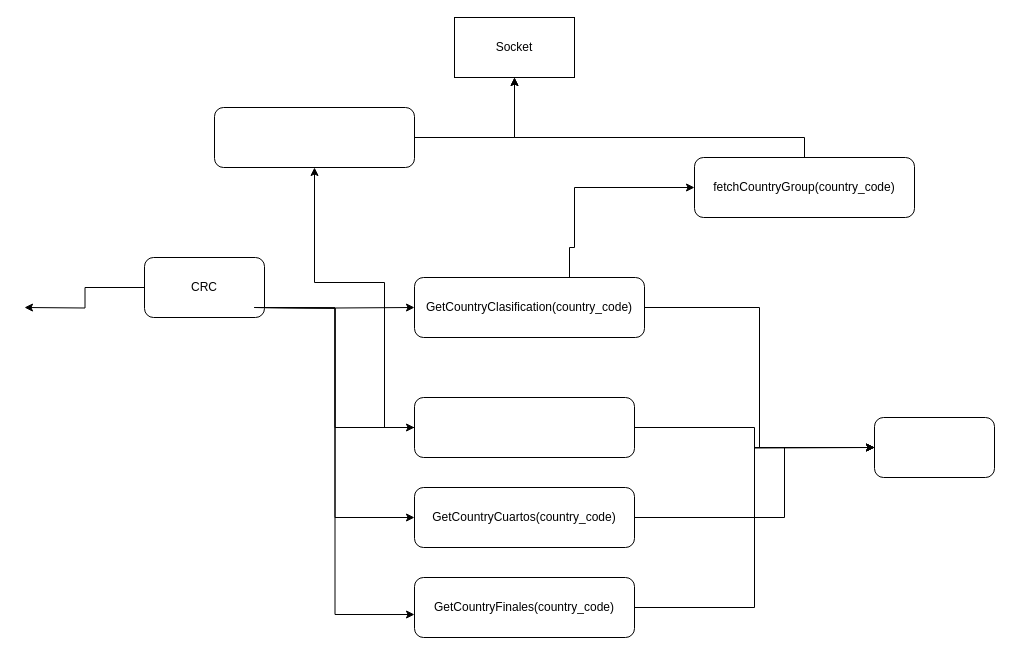
This 1012x655 diagram has some shape labels left out. Here are the shapes that lost their labels. From the top down, the centre of each, then its label:
At [314,137]: "fetchCountryInfo(country_code)".
At [524,427]: "GetCountryOctavos(country_code)".
At [934,447]: "PrintData()".
